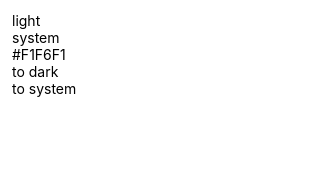
Test case: ThemeProvider › a choice made while the stored value is still loading is not overwritten
The image size is (332, 172).
Click the element with test id "to-dark" at (35, 72), box [12, 63, 58, 80]
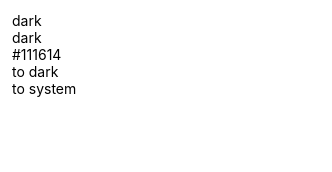
Now the text with test id "pref" reads "dark", box [12, 29, 42, 46]
Now the text with test id "canvas" reads "#111614", box [12, 46, 61, 63]
